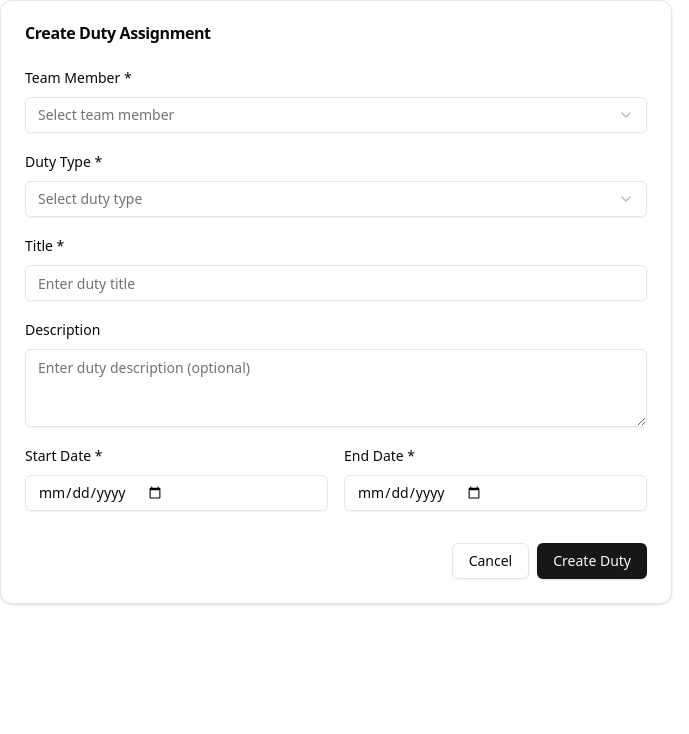
Scenario: DutyForm › clears field errors when user types
The image size is (689, 734).
// Trigger validation errors
Click the button "Create Duty": x=592, y=561 x1=537 y1=543 x2=647 y2=579
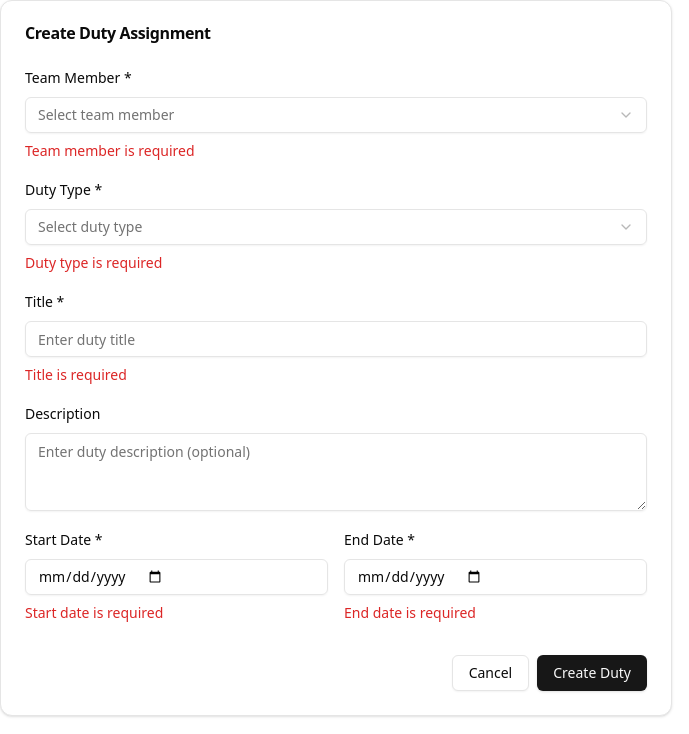
Expected: the text "Title is required" is shown, x1=25 y1=365 x2=127 y2=384
// Type in title field
In the field labelled "Title *": x=336, y=339 x1=25 y1=321 x2=647 y2=357, type "Test"
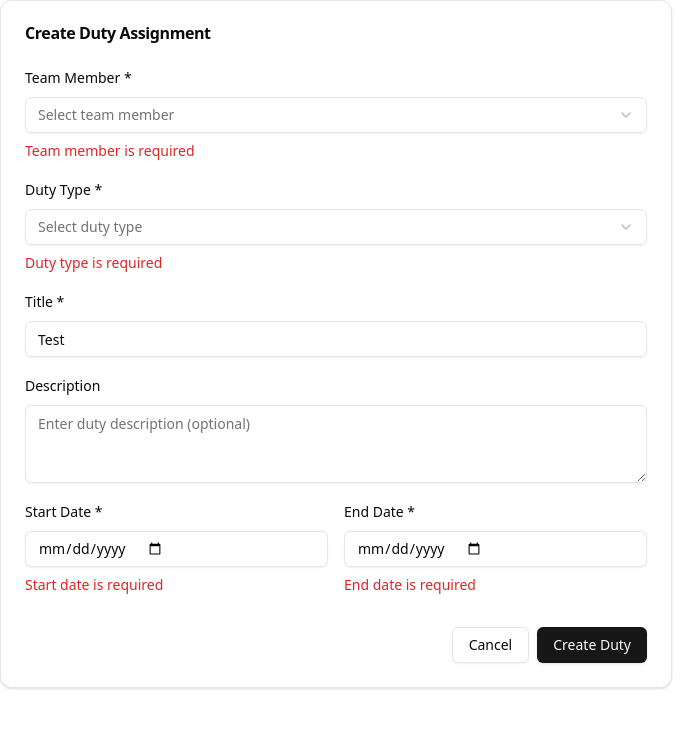
Expected: the text "Title is required" is gone
